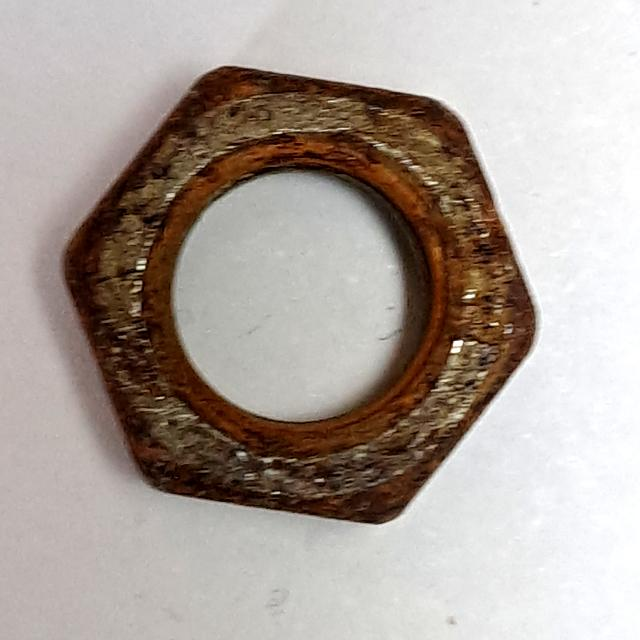Rust: (55, 40, 564, 537)
